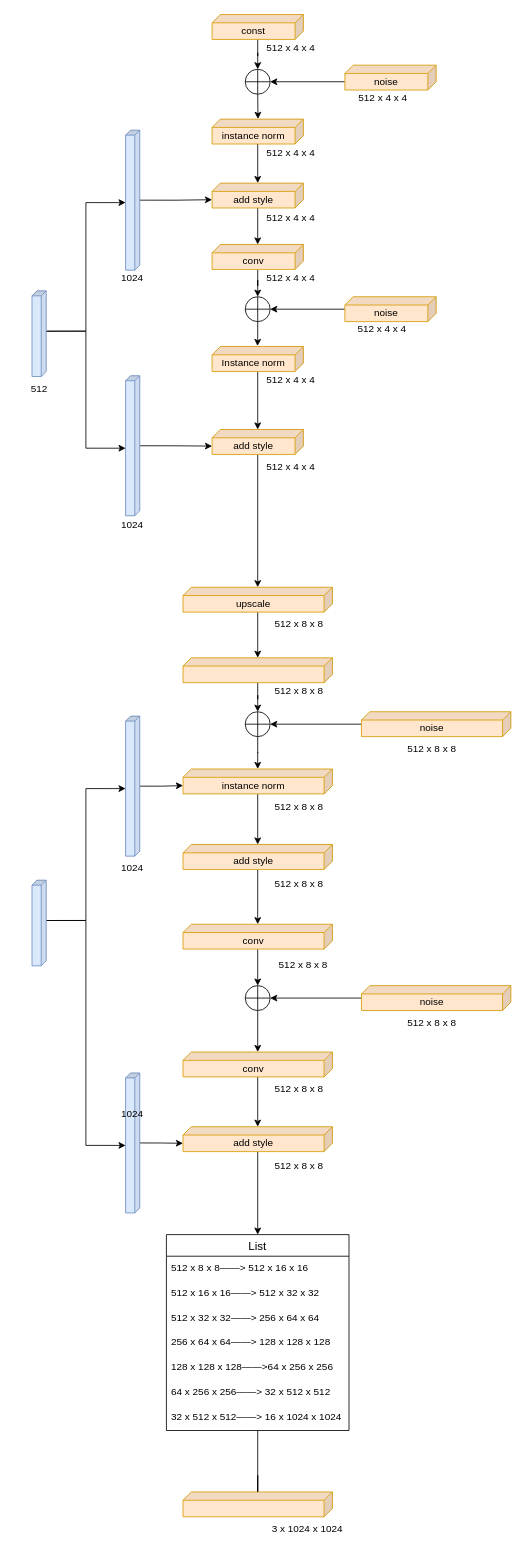
The diagram is 525 pixels wide and 1550 high, and some of its shapes have lost their labels. Each missing label, with the centre of its shape:
"blur" belongs at pixel 257 670.
"to rgb" belongs at pixel 257 1504.
